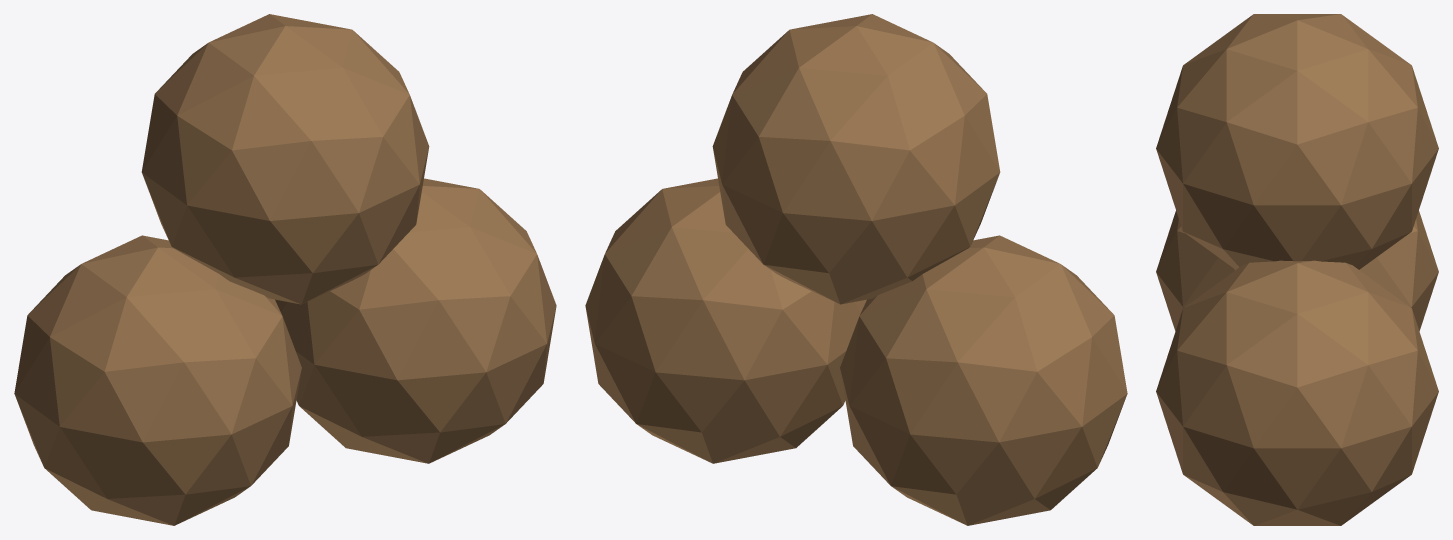
File: sm_product_coconuts.glb
3 renders of one model, left to right at view 1: azimuth 30°, elevation 25°; view 2: azimuth 150°, elevation 25°; view 3: azimuth 270°, elevation 25°, orthographic. The views are drawn at different scales.
Parts seen in each view (by area): view 1: coconuts_2, coconuts_0, coconuts_1; view 2: coconuts_2, coconuts_0, coconuts_1; view 3: coconuts_1, coconuts_2, coconuts_0.
Part boxes in pixels (x1,y1,x2,y2): coconuts_2: (141, 14, 429, 304); coconuts_0: (14, 235, 301, 525); coconuts_1: (275, 178, 556, 463); coconuts_2: (712, 14, 1000, 304); coconuts_0: (840, 235, 1127, 525); coconuts_1: (585, 178, 866, 463); coconuts_1: (1156, 260, 1438, 525); coconuts_2: (1156, 14, 1438, 269); coconuts_0: (1156, 211, 1438, 331).
Size of what is drawn, in the model's own units: 0.2731 by 0.24 by 0.14.
